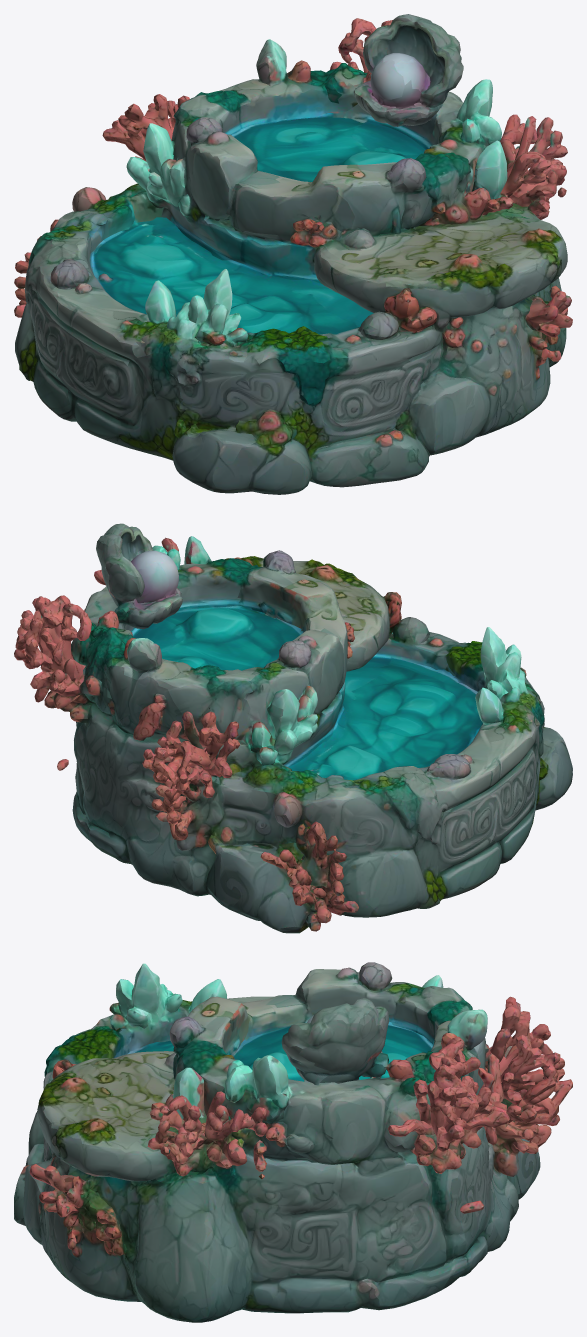
File: blueprint.tide_pool.glb
The picture shows the model from 3 angles, top to bottom: view 1: azimuth 30°, elevation 25°; view 2: azimuth 150°, elevation 25°; view 3: azimuth 270°, elevation 25°; orthographic projection. The views are drawn at different scales.
Parts seen in each view (by area): view 1: textured_mesh.obj; view 2: textured_mesh.obj; view 3: textured_mesh.obj.
Part boxes in pixels (<box>): textured_mesh.obj: <box>14,14,572,494</box>; textured_mesh.obj: <box>14,523,572,933</box>; textured_mesh.obj: <box>14,962,572,1322</box>.
Bounding box in the file's own units: 1.91 × 1.21 × 1.99.
1 material, 1 textured.
